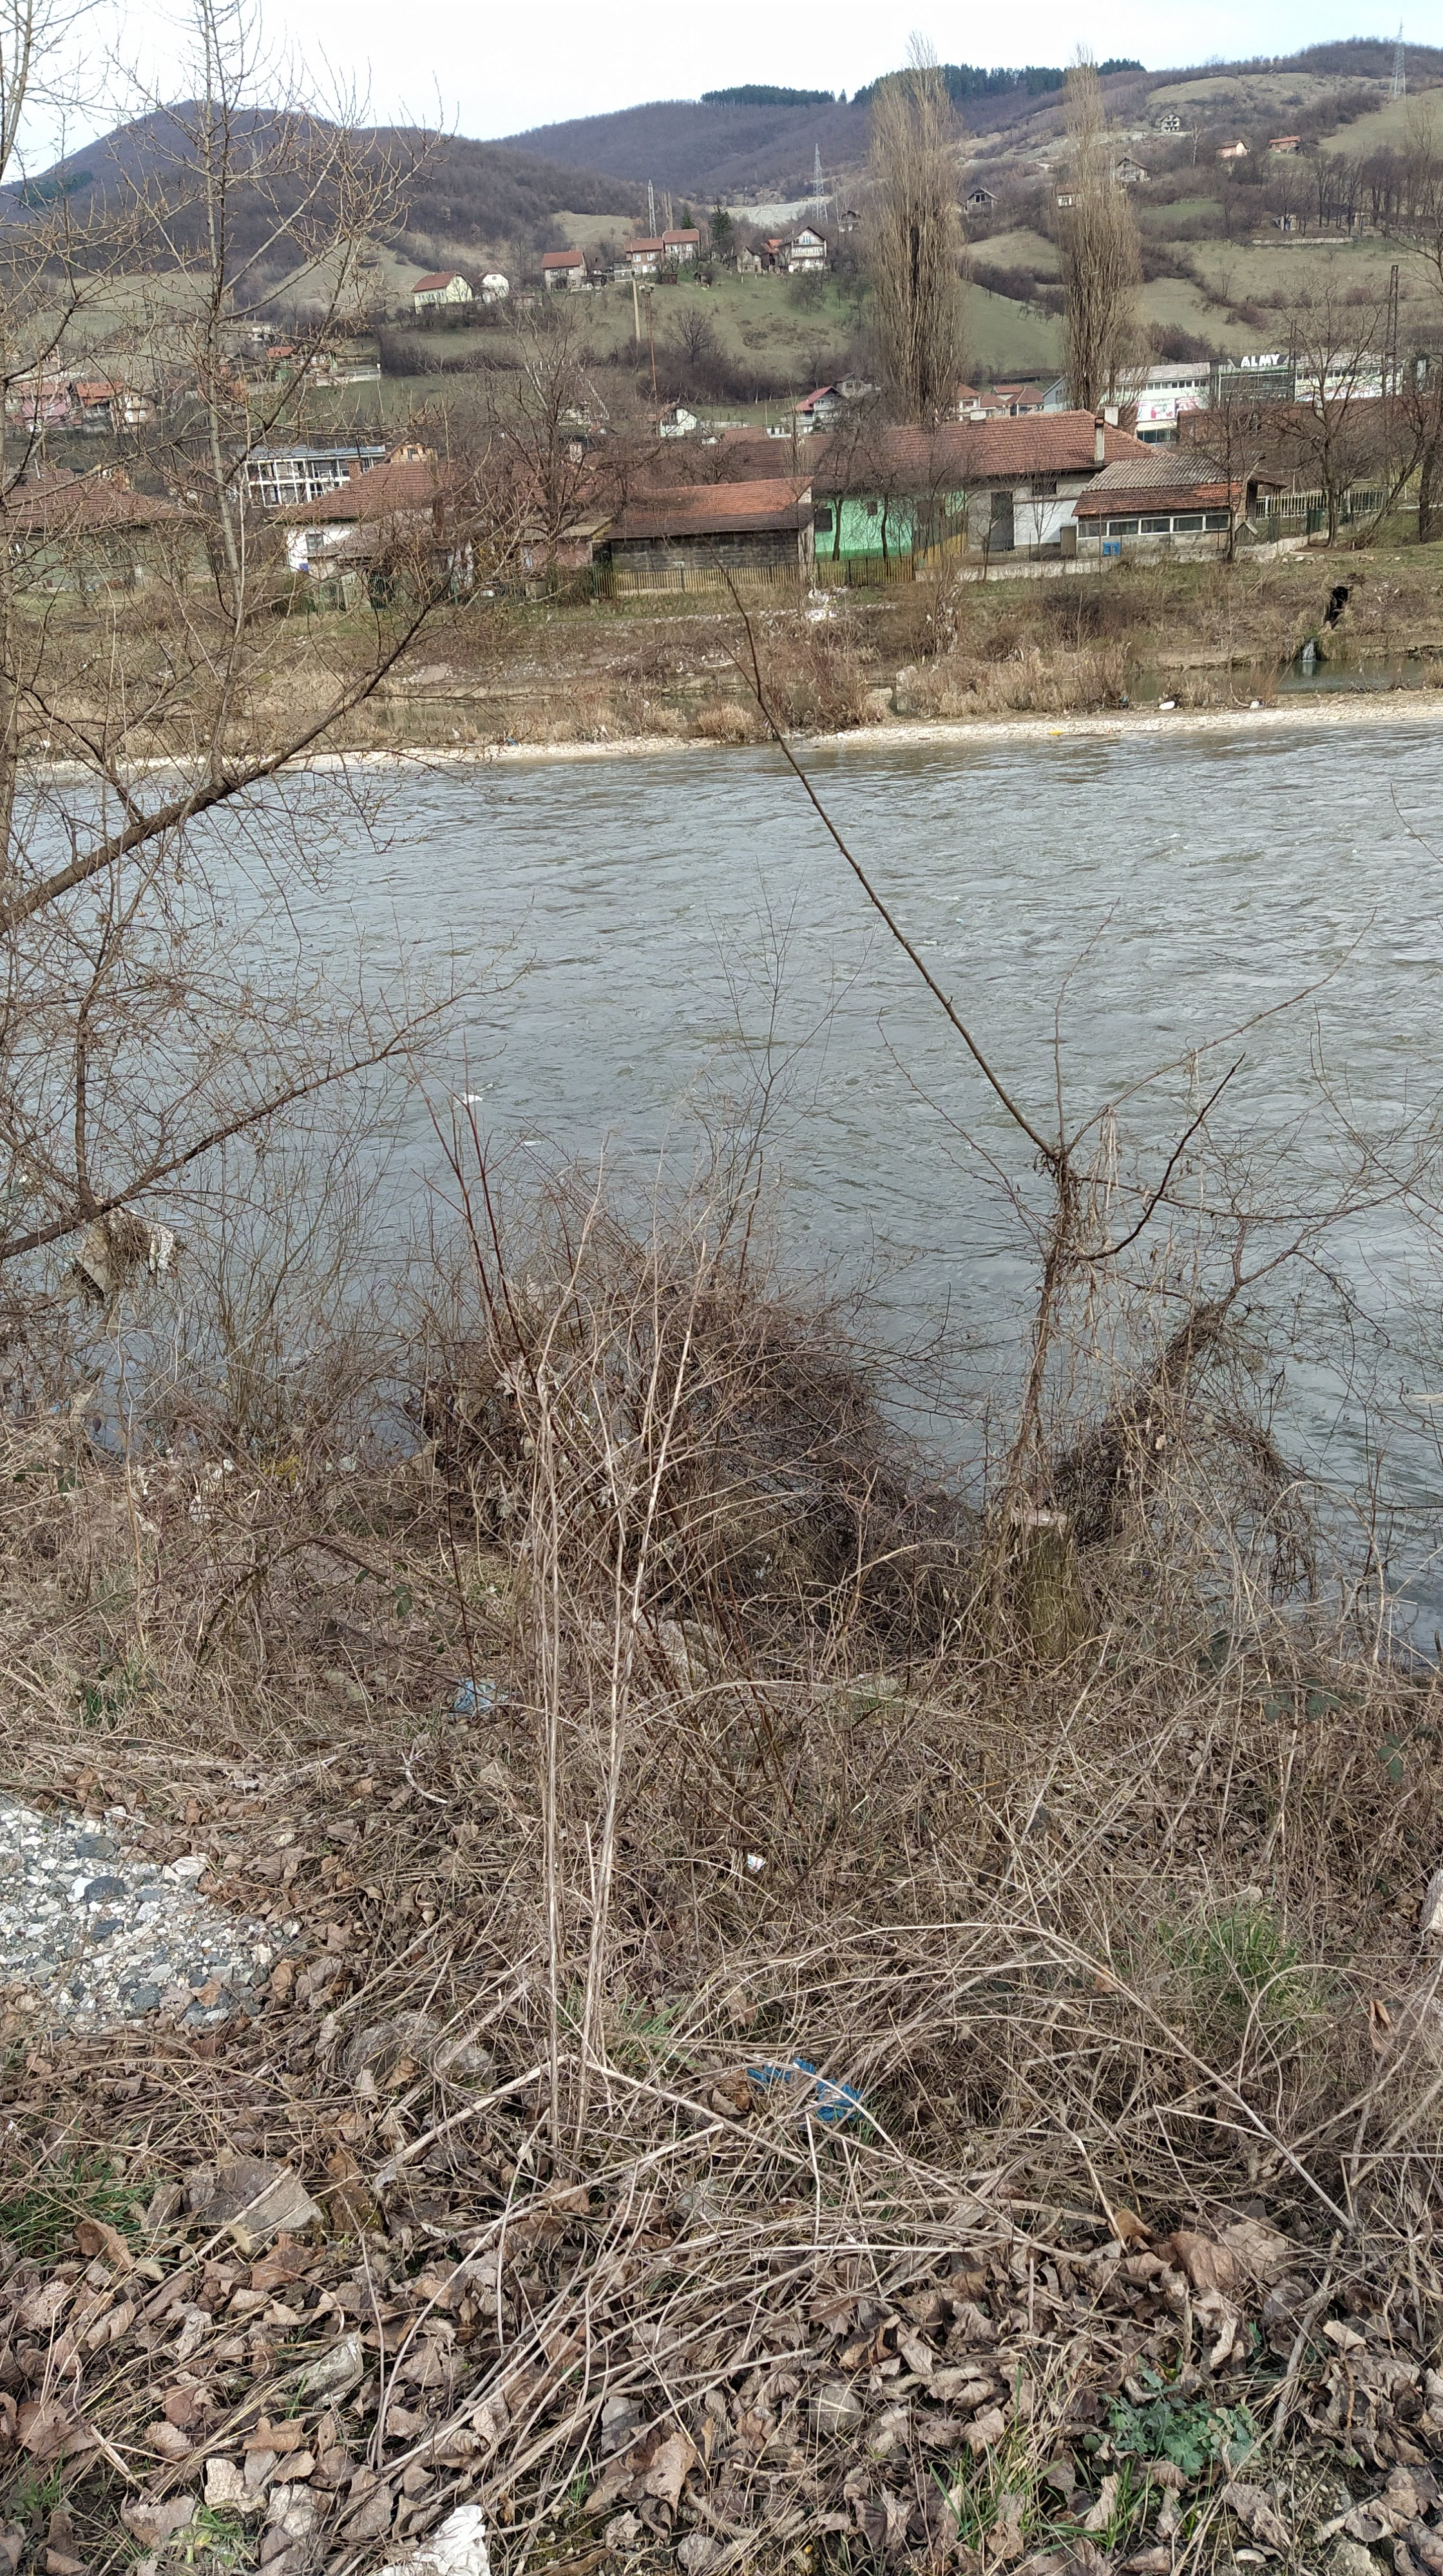Plastic Bottle: (1050, 729, 1062, 736), (922, 939, 937, 945), (956, 918, 961, 924)
